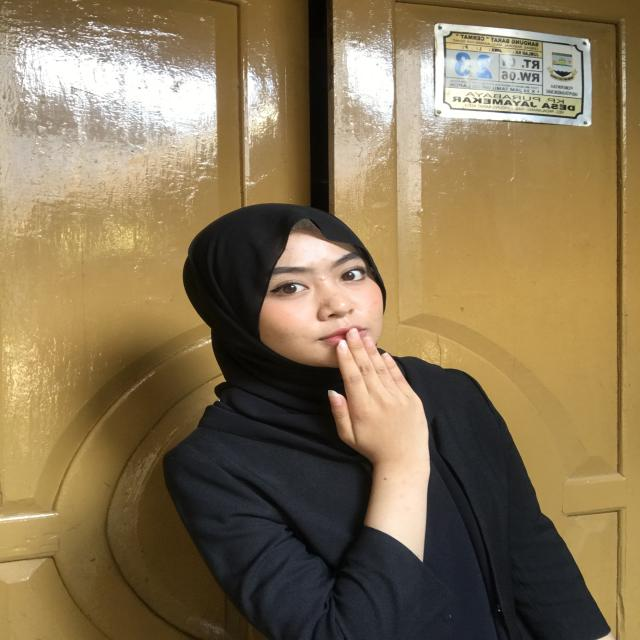ganteng: (304, 317, 449, 498)
